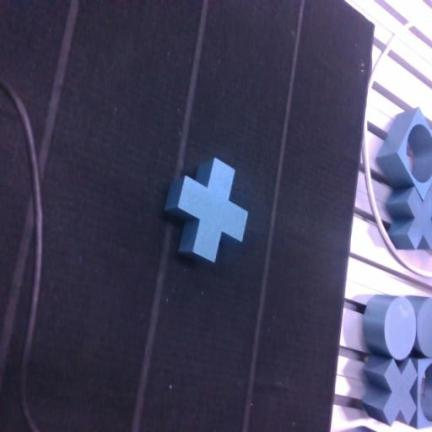cross: (165, 158, 248, 262), (363, 356, 416, 425), (387, 187, 431, 249)
